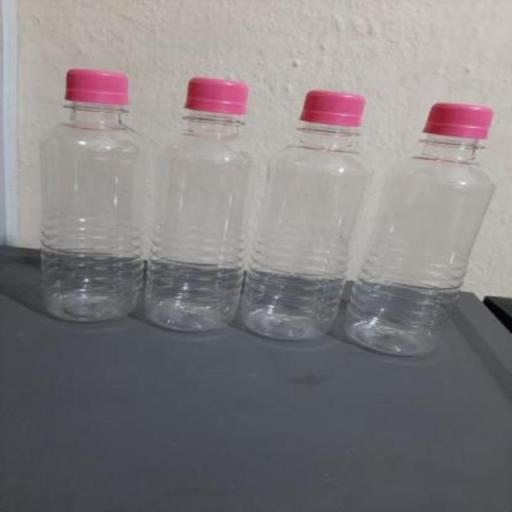Coca: (350, 100, 496, 356), (246, 88, 372, 341), (144, 78, 258, 333), (41, 68, 146, 322)
